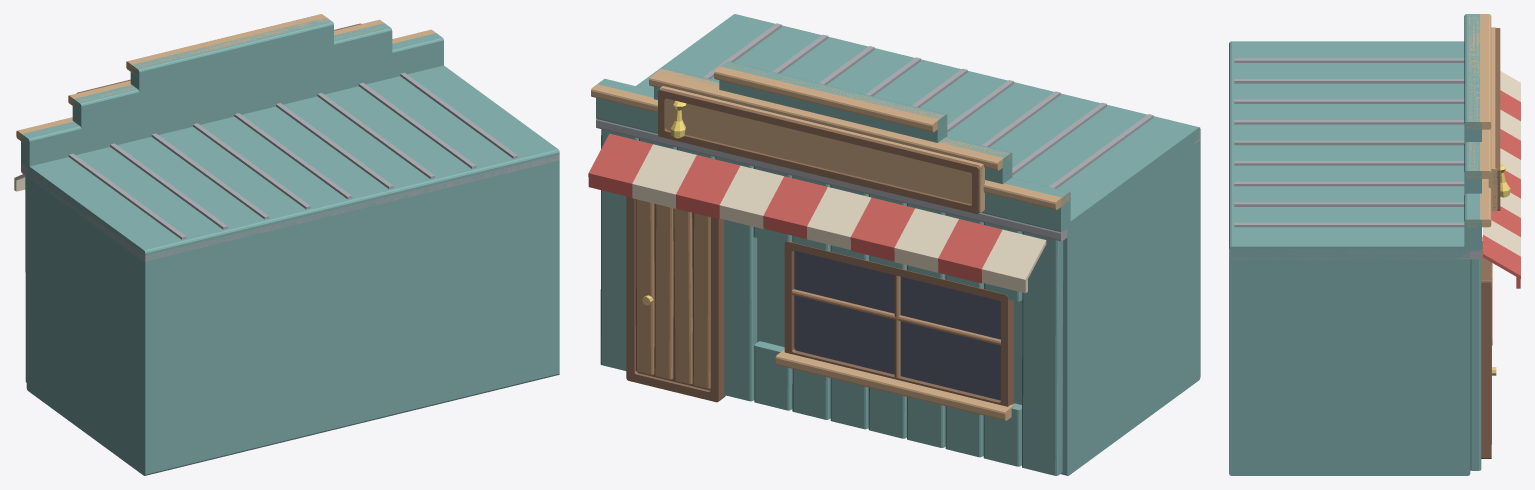
File: Kit_Facade_Store.fbx
3 views of the same model, side by side, from view 1: azimuth 30°, elevation 25°; view 2: azimuth 150°, elevation 25°; view 3: azimuth 270°, elevation 25° (orthographic). The views are drawn at different scales.
Parts seen in each view (by area): view 1: Kit_Facade_Store; view 2: Kit_Facade_Store; view 3: Kit_Facade_Store.
Part boxes in pixels (<box>): Kit_Facade_Store: <box>14,14,559,475</box>; Kit_Facade_Store: <box>588,14,1200,475</box>; Kit_Facade_Store: <box>1229,14,1520,475</box>.
Bounding box in the file's own units: 5 × 3.4 × 3.
